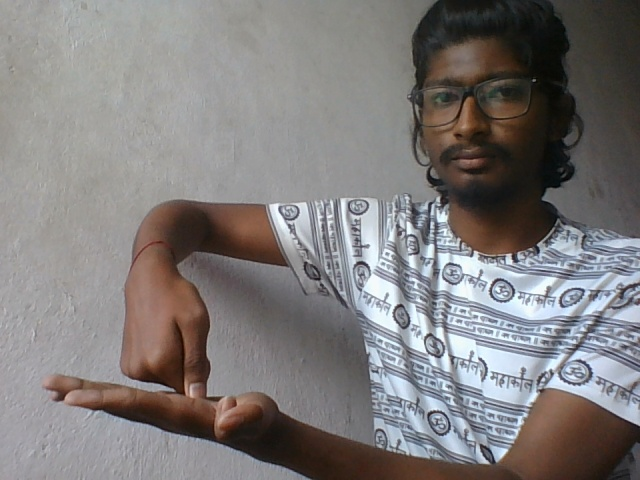What: (25, 251, 284, 466)
